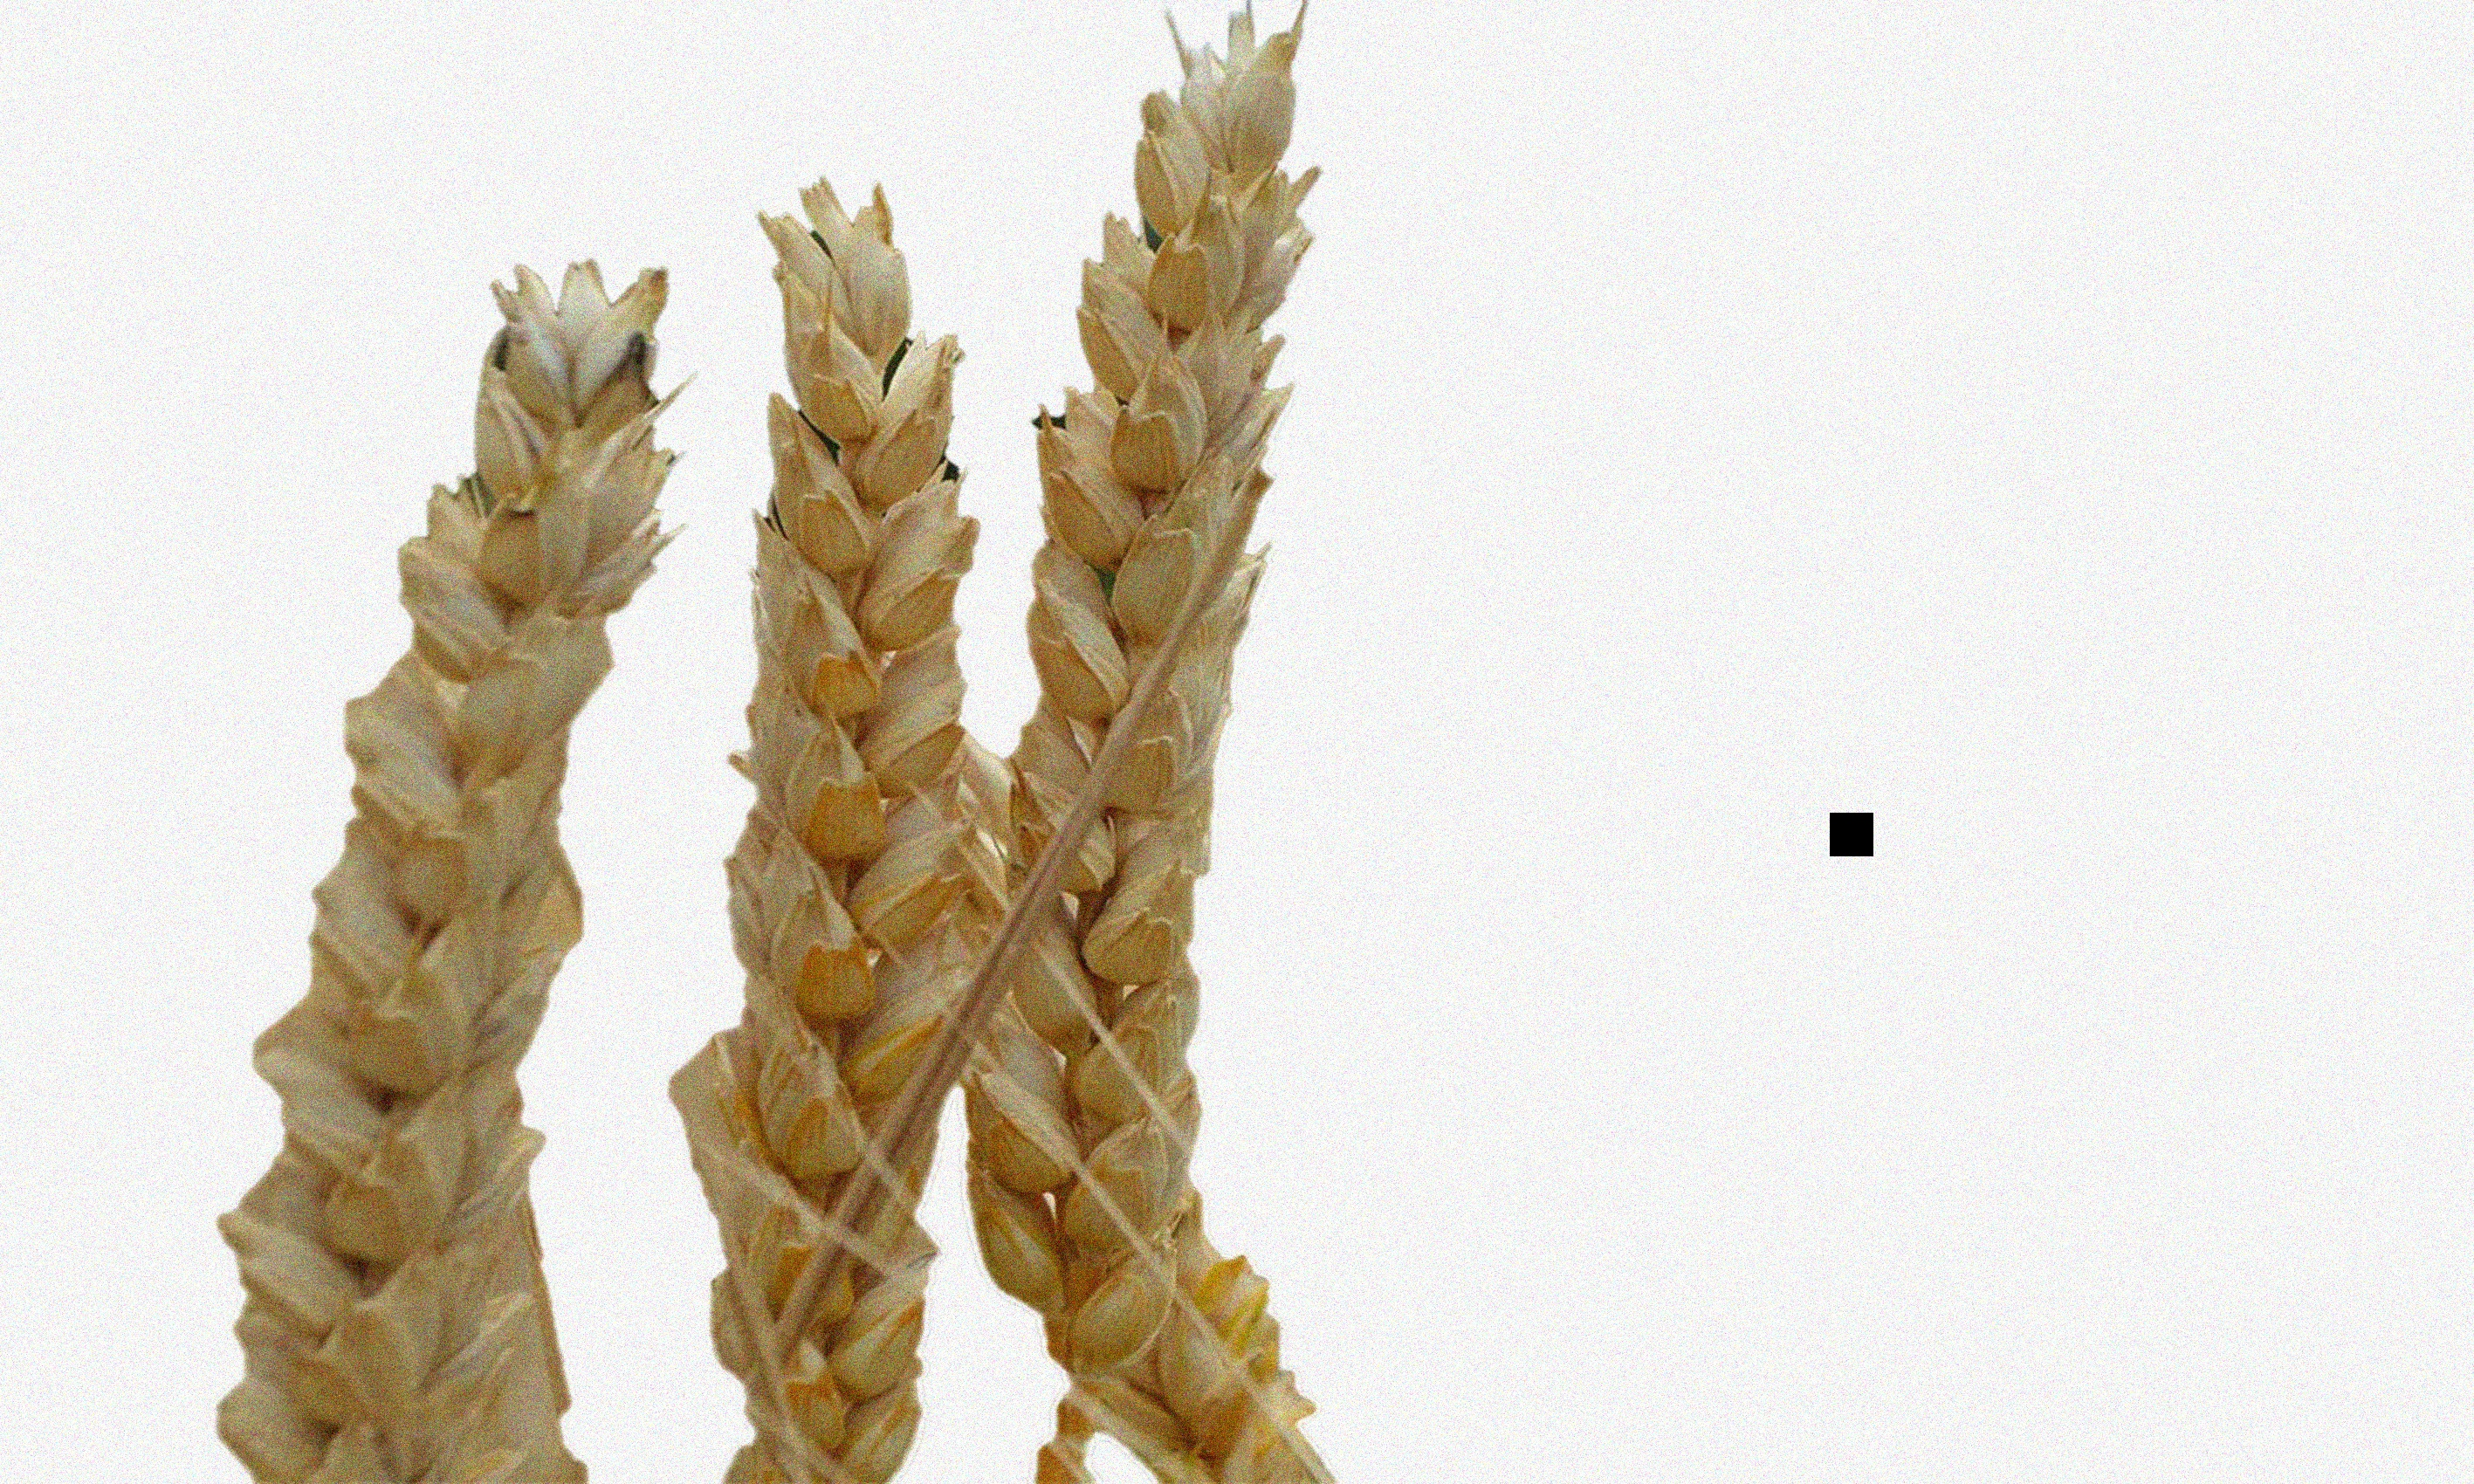wheat: (196, 251, 666, 1480), (994, 14, 1344, 1465), (689, 129, 991, 1477)
